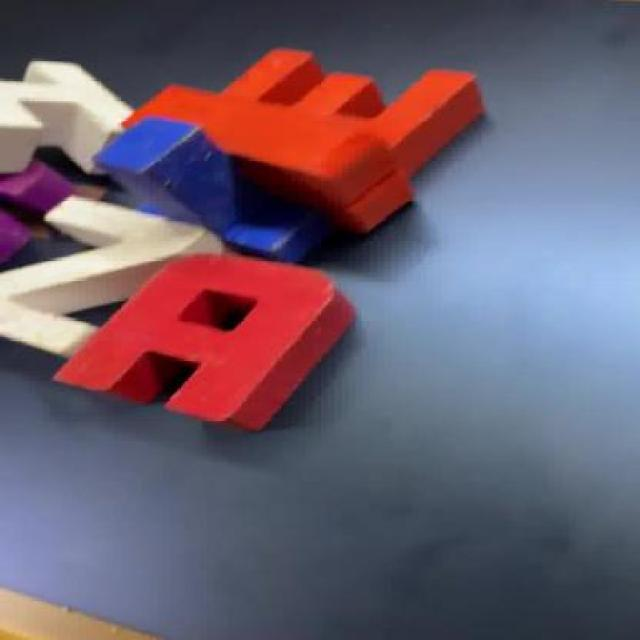A: (76, 252, 350, 418)
E: (196, 39, 524, 150)
Z: (0, 193, 235, 359)
